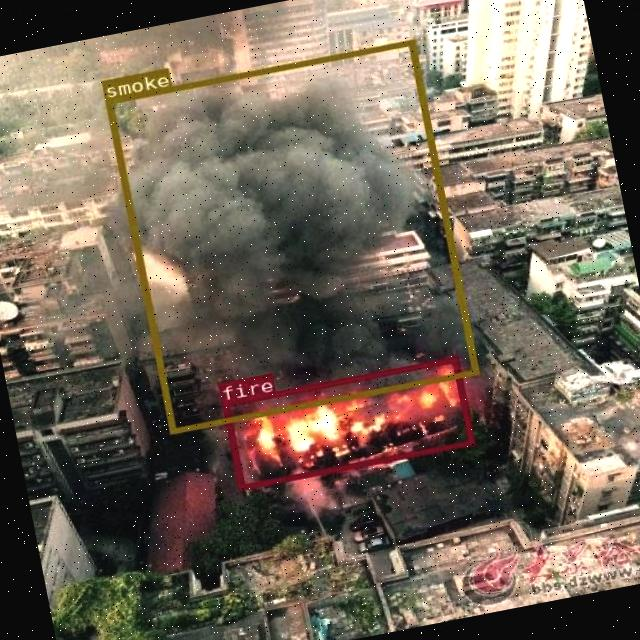fire: (220, 355, 474, 490)
smoke: (105, 39, 477, 433)
